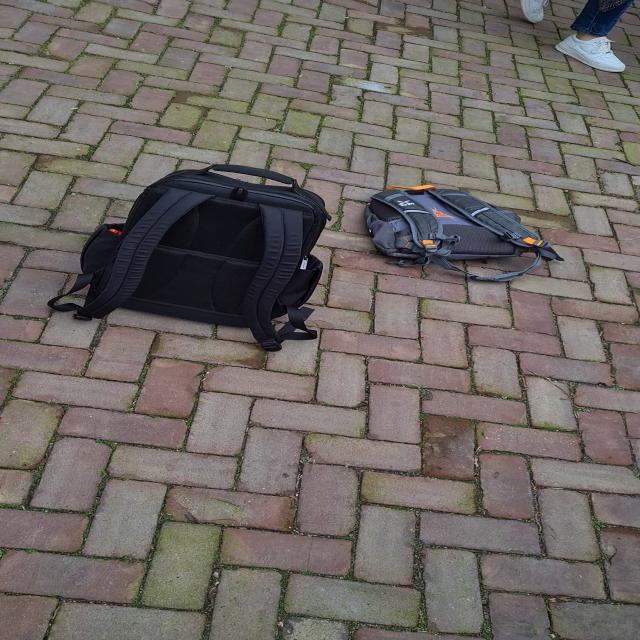backpack: (67, 158, 337, 333), (353, 182, 561, 278)
